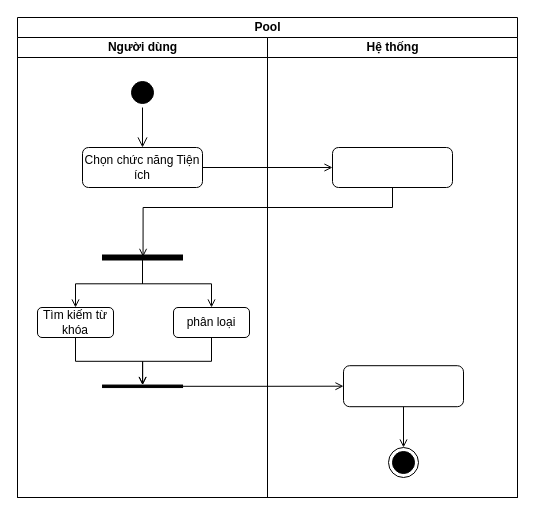
Image size: 535x515. Some labels were removed from this diagram. The shapes that lost their labels are listed below. From the top down, each one's centre as x and y in pixels, then its label:
the point at 392,167: Hiển thị danh mục phân loại tiện ích
the point at 403,386: HIển thị danh sách tiện ích
